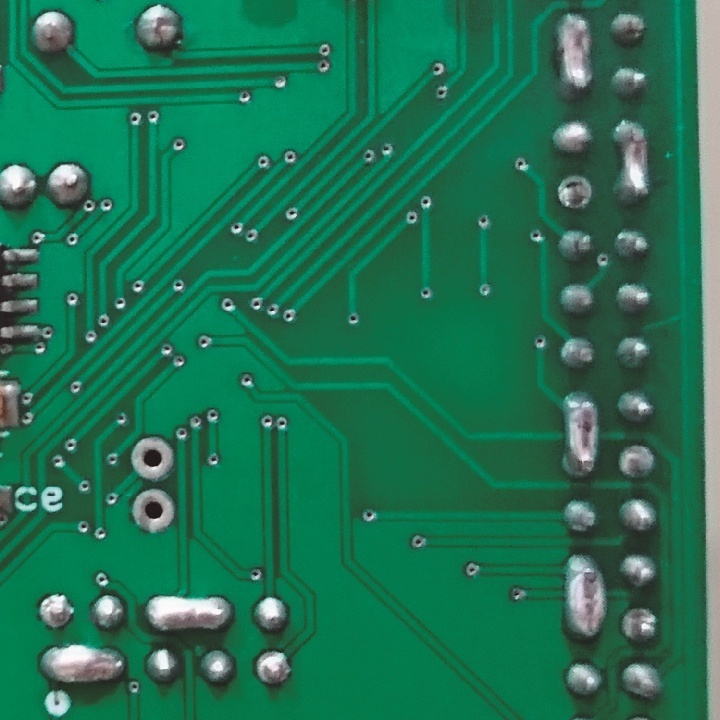F: (123, 482, 179, 538), (126, 435, 178, 480), (616, 441, 659, 486), (553, 172, 596, 213), (621, 604, 660, 646)
P: (33, 641, 127, 686), (561, 554, 605, 643), (556, 12, 596, 100), (144, 594, 230, 633), (560, 391, 599, 476), (614, 118, 654, 198)
